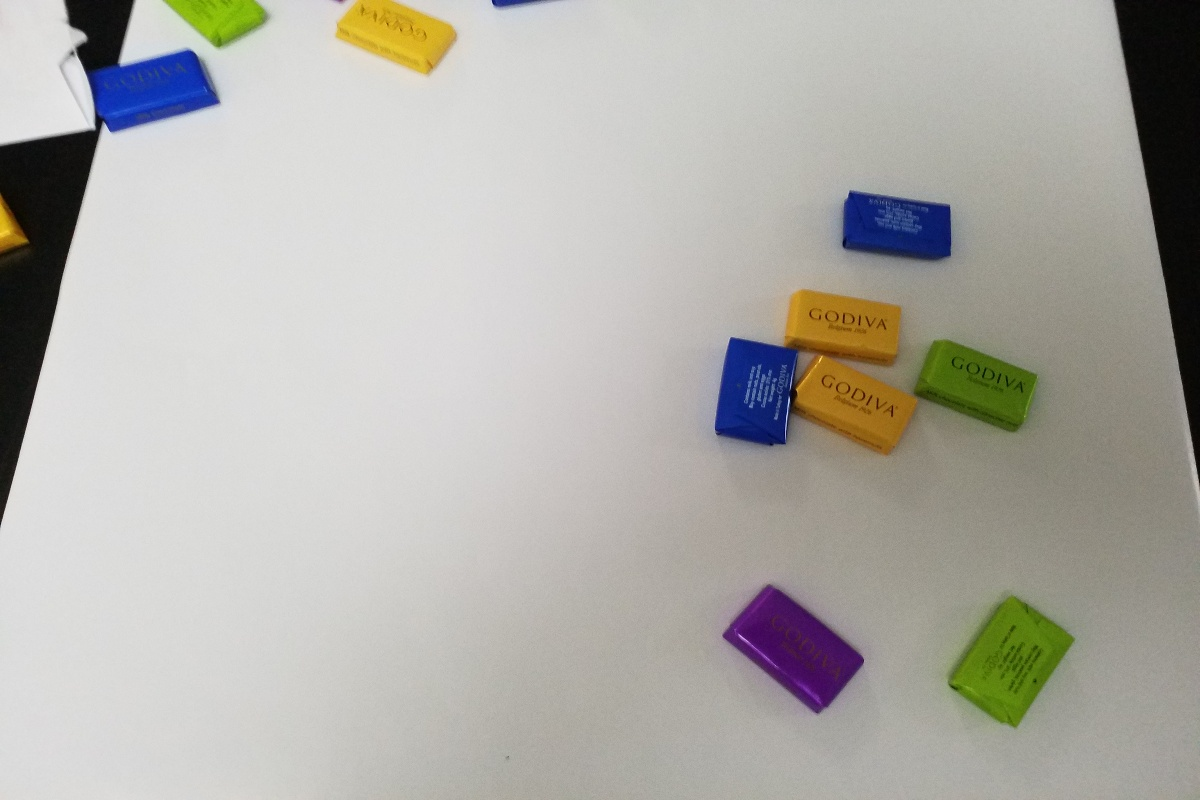chocolate_blue: (829, 180, 967, 273), (704, 333, 799, 456)
chocolate_green: (933, 585, 1077, 729), (914, 332, 1047, 440)
chocolate_purple: (710, 578, 877, 718)
chocolate_yellow: (793, 350, 917, 458), (779, 283, 909, 367)
